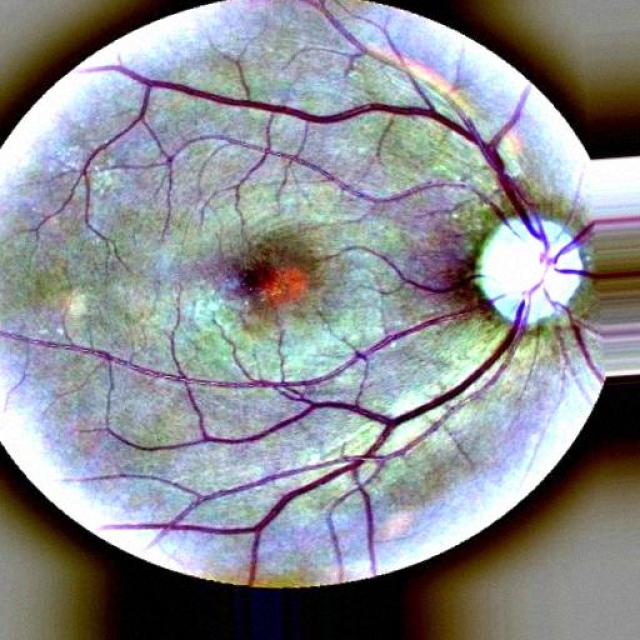Macula: (210, 231, 324, 326)
Nerves: (92, 261, 539, 562), (138, 81, 545, 251), (320, 238, 476, 300)
Optic Disk: (463, 212, 599, 341)
